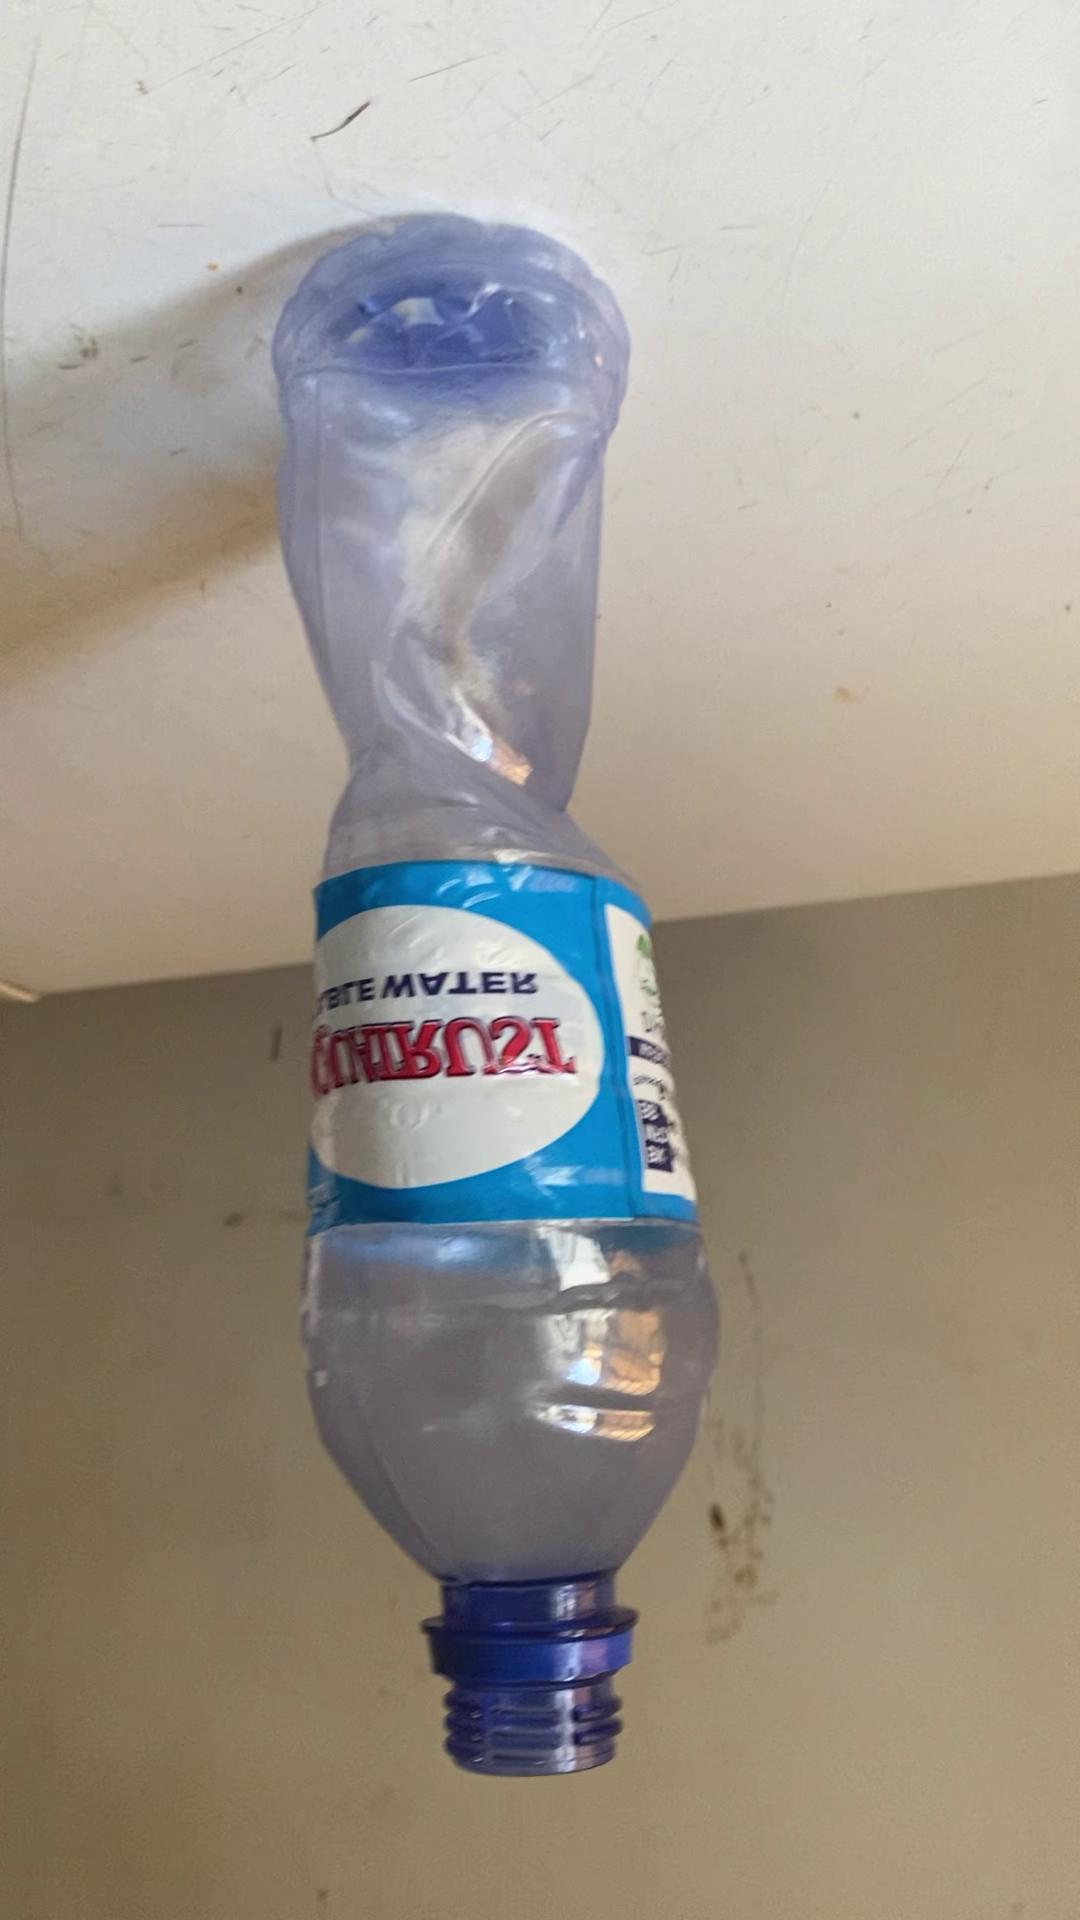crumbled: (261, 212, 737, 1792)
label: (307, 866, 670, 1240)
no-cap: (425, 1619, 636, 1780)
